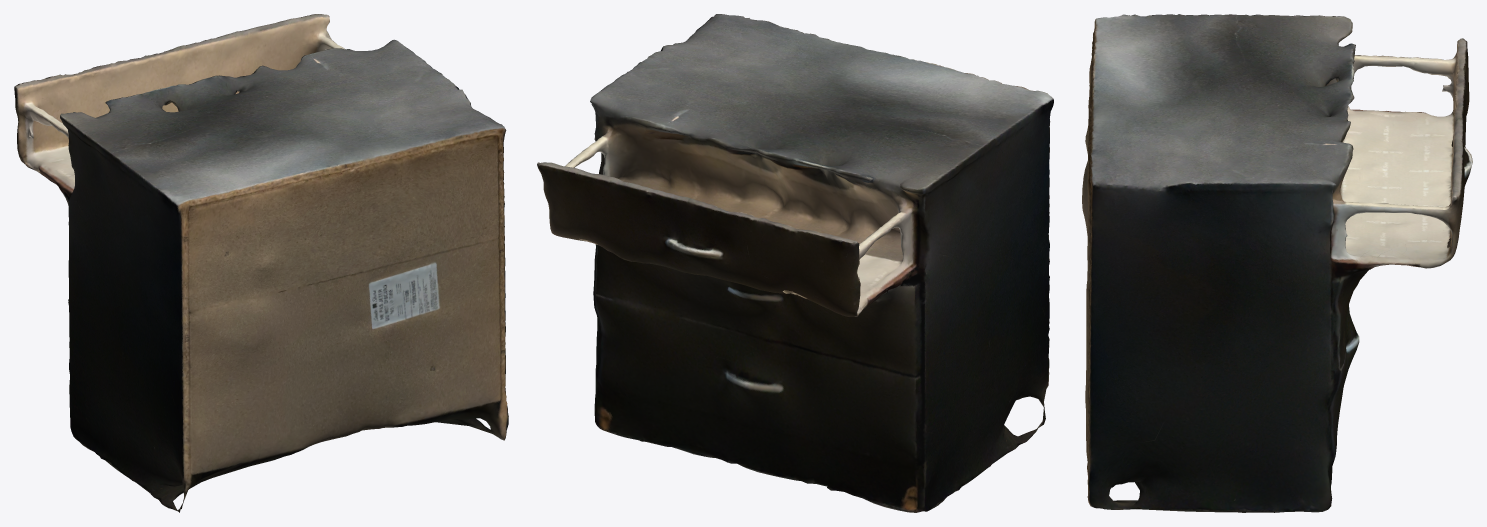
File: AR-Code-Object-Capture-app-1769026403.obj
3 views of the same model, side by side, from view 1: azimuth 30°, elevation 25°; view 2: azimuth 150°, elevation 25°; view 3: azimuth 270°, elevation 25° (orthographic). The views are drawn at different scales.
Parts seen in each view (by area): view 1: Mesh; view 2: Mesh; view 3: Mesh.
Part boxes in pixels (left/top/right/bottom): Mesh: left=14, top=14, right=508, bottom=512; Mesh: left=537, top=14, right=1053, bottom=512; Mesh: left=1082, top=14, right=1472, bottom=512.
Size of the model in its own units: 0.763 by 0.7129 by 0.7433.
Materials: 1 (1 with a texture image).
